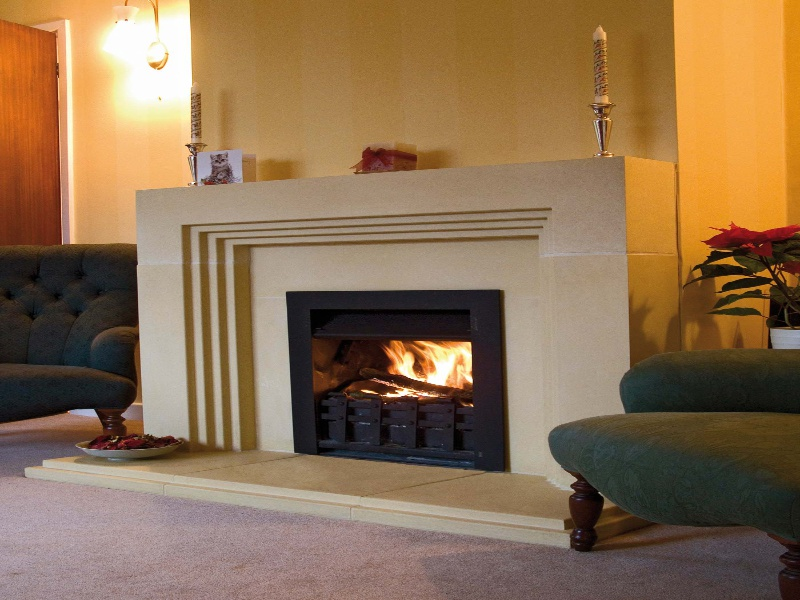fire: (377, 339, 473, 397)
